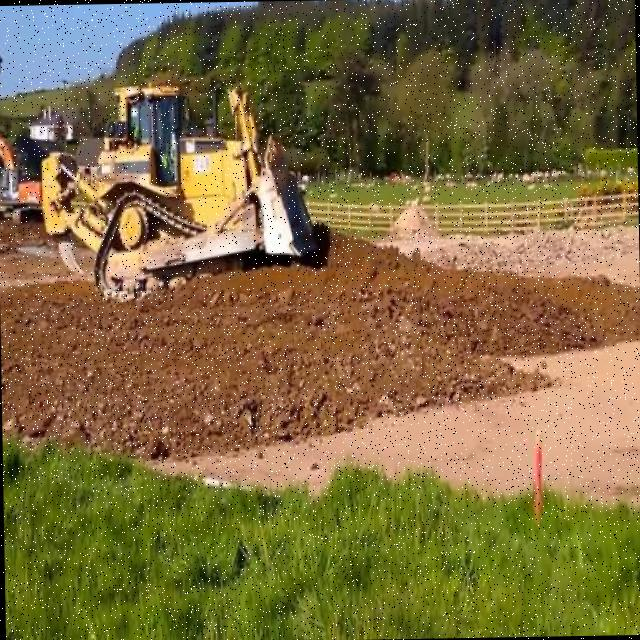Bulldozer: (41, 75, 322, 307)
Excavator: (0, 121, 42, 227)
